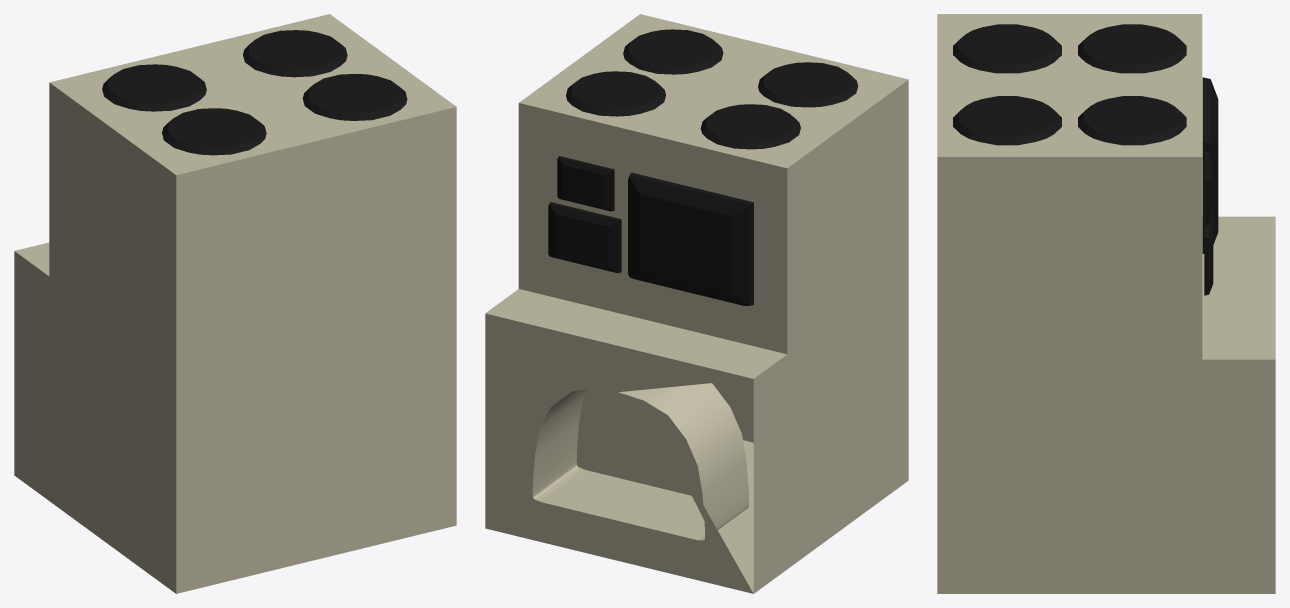
Rendered from Oven placeholder.fbx.
The picture shows the model from 3 angles, left to right: view 1: azimuth 30°, elevation 25°; view 2: azimuth 150°, elevation 25°; view 3: azimuth 270°, elevation 25°; orthographic projection. The views are drawn at different scales.
Visible parts, largest first — view 1: pCube5; view 2: pCube5, pCube6, pCube8, pCube7; view 3: pCube5, pCube6, pCube8, pCube7.
Boxes of the visible parts, <box> form: pCube5: <box>14,14,456,593</box>; pCube5: <box>485,14,908,593</box>; pCube6: <box>628,172,753,305</box>; pCube8: <box>548,202,621,272</box>; pCube7: <box>557,156,614,211</box>; pCube5: <box>937,14,1275,593</box>; pCube6: <box>1202,77,1218,253</box>; pCube8: <box>1204,200,1213,295</box>; pCube7: <box>1204,151,1211,225</box>.
Size of the model in its own units: 70.35 by 107 by 70.35.
